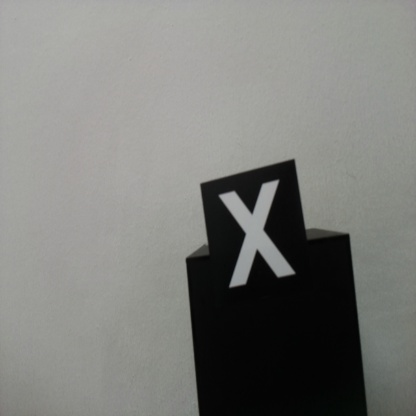id_13: (201, 180, 306, 297)
